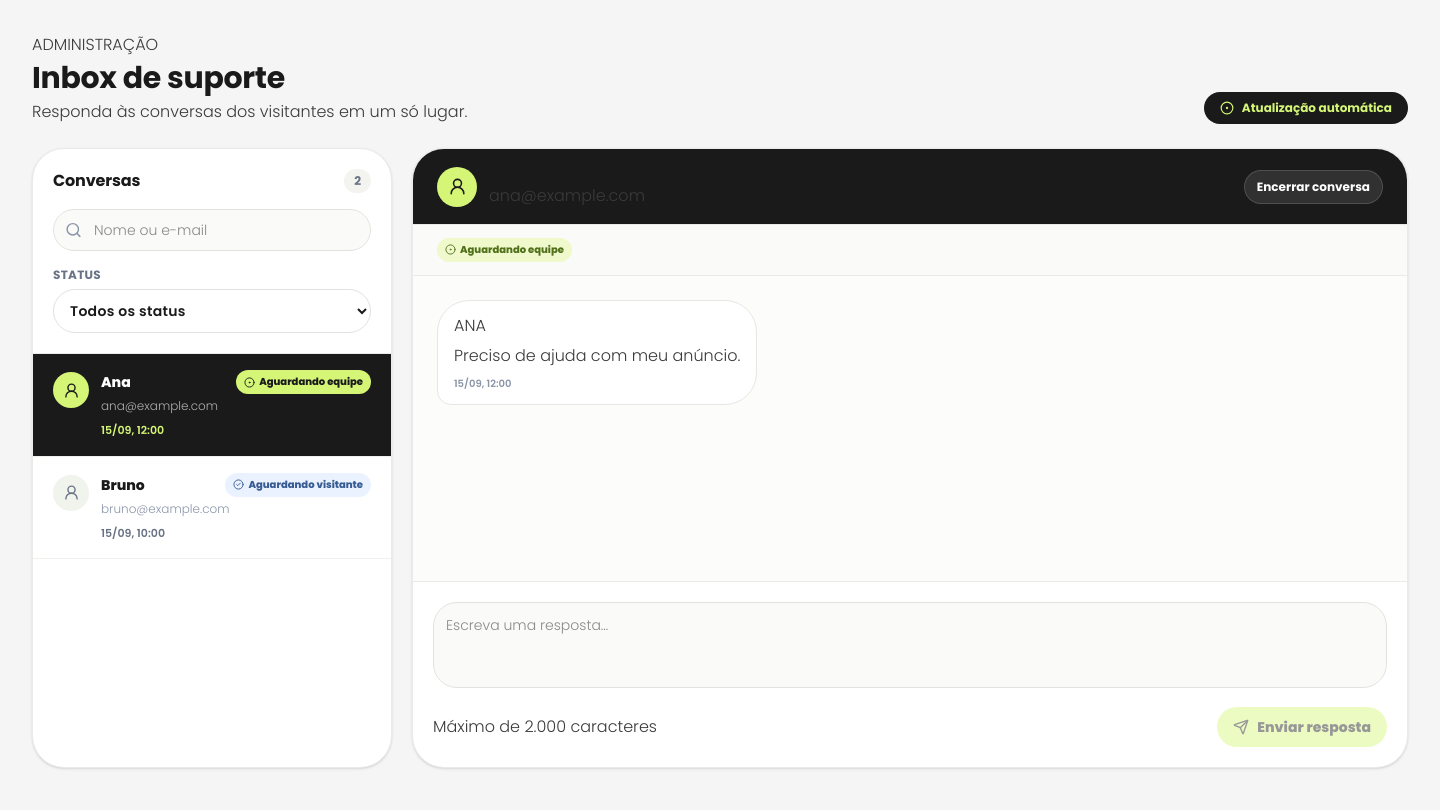
AdminSupportInbox › closes and reopens the selected conversation
This screenshot has width=1440, height=810.
Click the button "Encerrar conversa". click: coordinates (1313, 187)
box: [1244,170,1383,204]
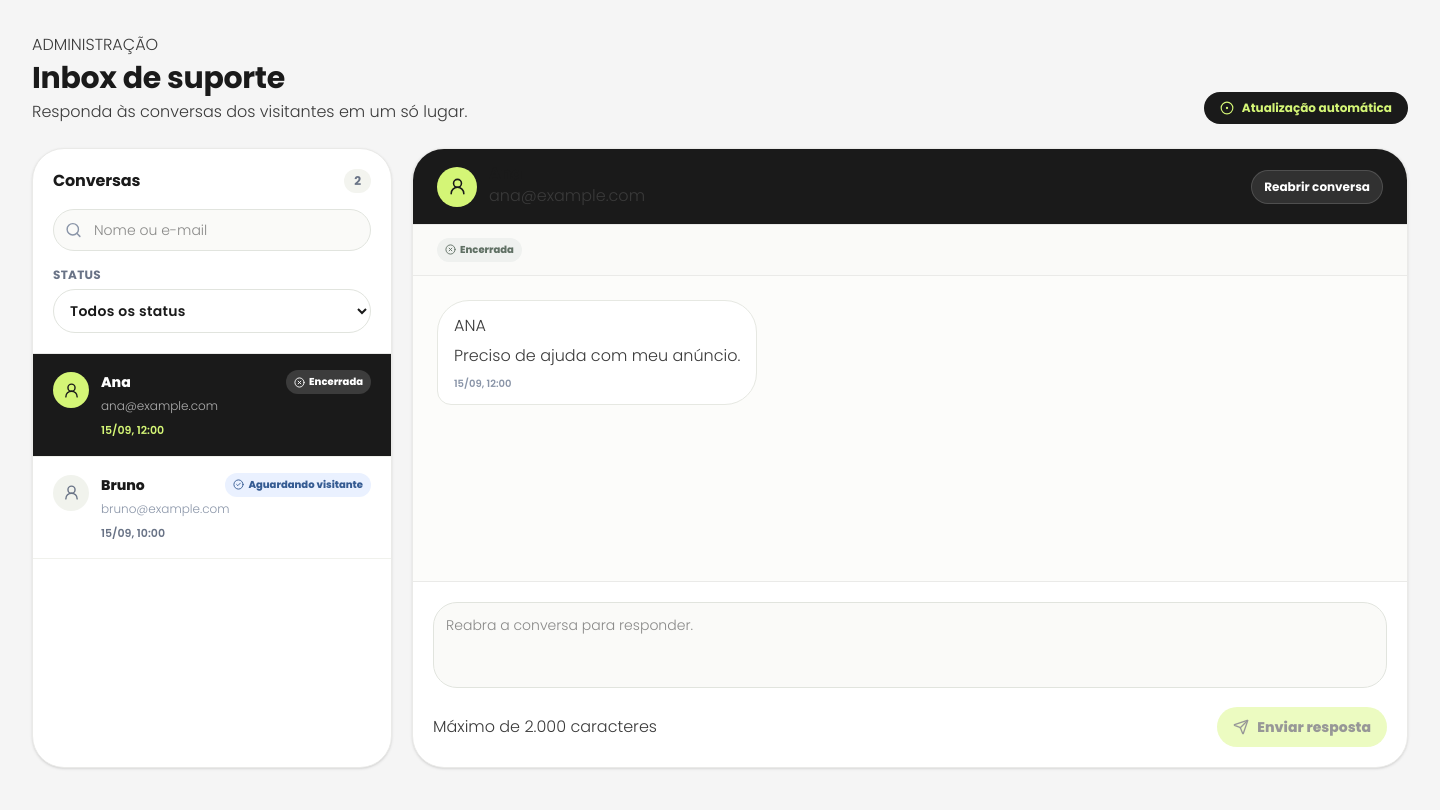
Now the button "Reabrir conversa" is shown
Click the button "Reabrir conversa". click: coordinates (1317, 187)
box: [1251,170,1383,204]
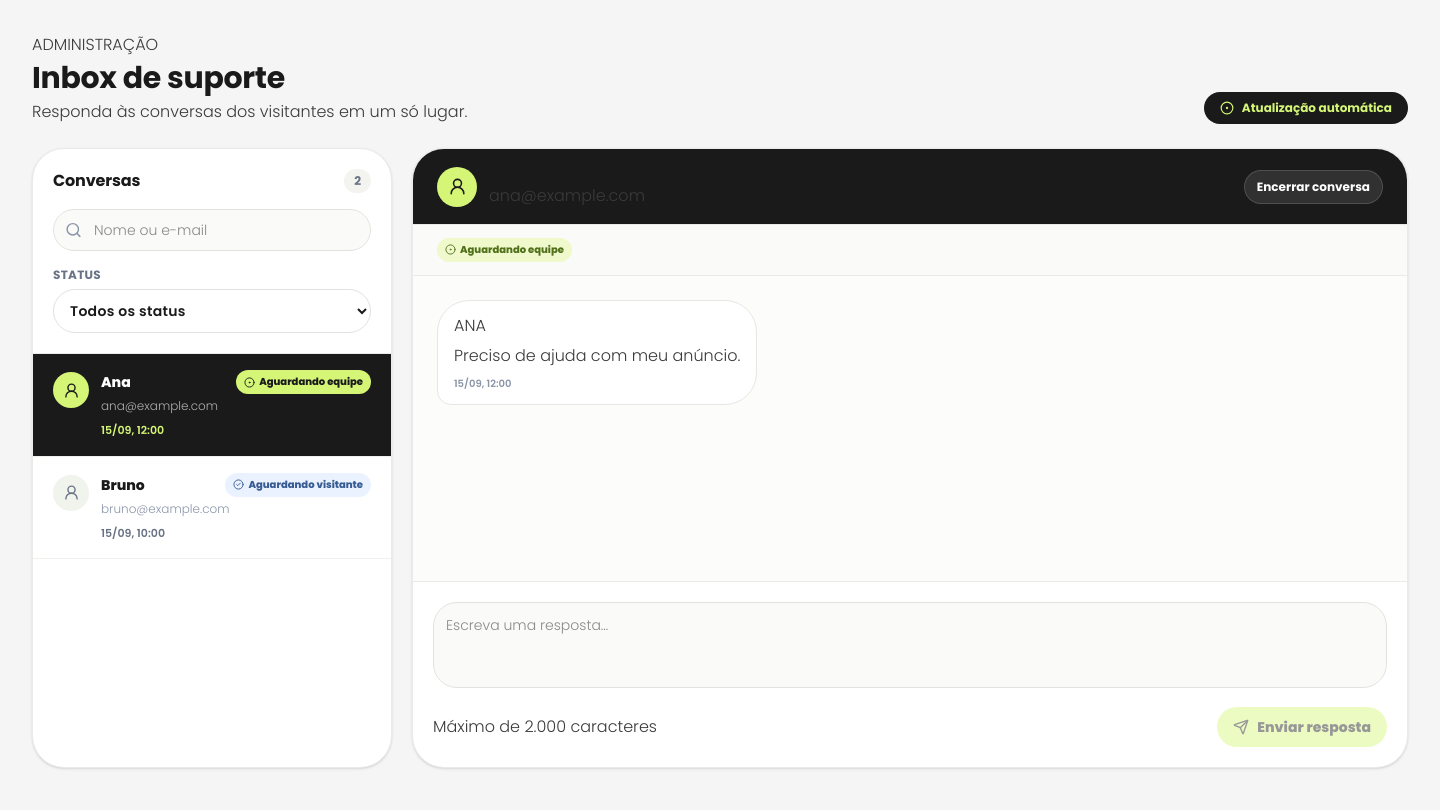
Now the button "Encerrar conversa" is shown, box [1244,170,1383,204]
